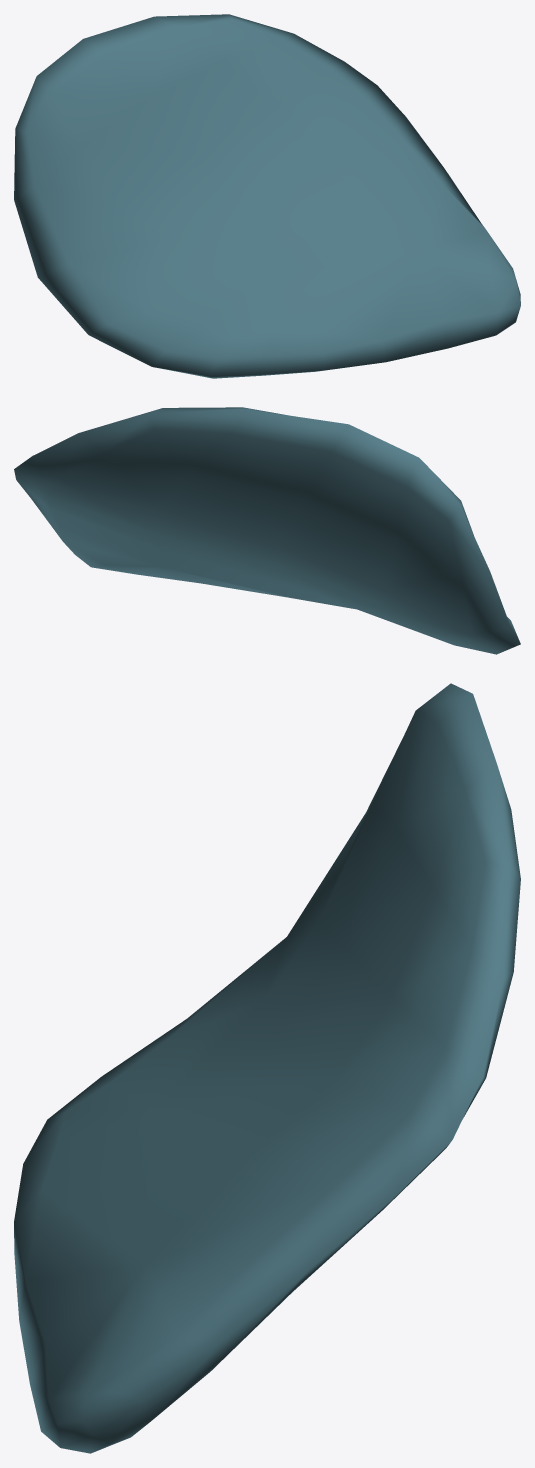
The model's file is Obliquus_inferior_capitis_on_transverse_process_of_atlas.r_Gene.glb.
The picture shows the model from 3 angles, top to bottom: view 1: azimuth 30°, elevation 25°; view 2: azimuth 150°, elevation 25°; view 3: azimuth 270°, elevation 25°; orthographic projection. The views are drawn at different scales.
Parts seen in each view (by area): view 1: Obliquus_inferior_capitis_on_transverse_process_of_atlas.r_G; view 2: Obliquus_inferior_capitis_on_transverse_process_of_atlas.r_G; view 3: Obliquus_inferior_capitis_on_transverse_process_of_atlas.r_G.
Boxes of the visible parts, bbox=[...] form: Obliquus_inferior_capitis_on_transverse_process_of_atlas.r_G: bbox=[14, 14, 520, 378]; Obliquus_inferior_capitis_on_transverse_process_of_atlas.r_G: bbox=[14, 407, 520, 654]; Obliquus_inferior_capitis_on_transverse_process_of_atlas.r_G: bbox=[14, 683, 520, 1453].
Bounding box in the file's own units: 0.00515 × 0.00325 × 0.00304.
